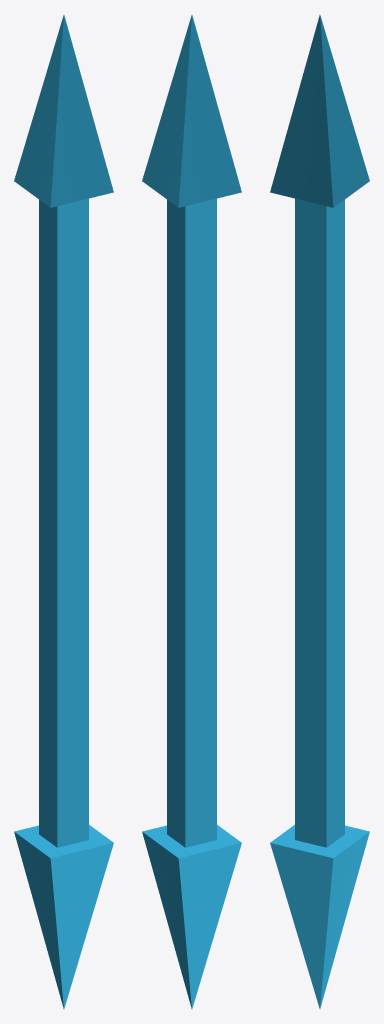
File: yaxis.glb
The picture shows the model from 3 angles, left to right: view 1: azimuth 30°, elevation 25°; view 2: azimuth 210°, elevation 25°; view 3: azimuth 330°, elevation 25°; orthographic projection.
Parts seen in each view (by area): view 1: axis; view 2: axis; view 3: axis.
Part boxes in pixels (<box>): axis: <box>14,15,113,1008</box>; axis: <box>142,15,241,1008</box>; axis: <box>270,15,369,1008</box>.
Bounding box in the file's own units: 0.12 × 1.8 × 0.12.
1 material, 1 textured.
